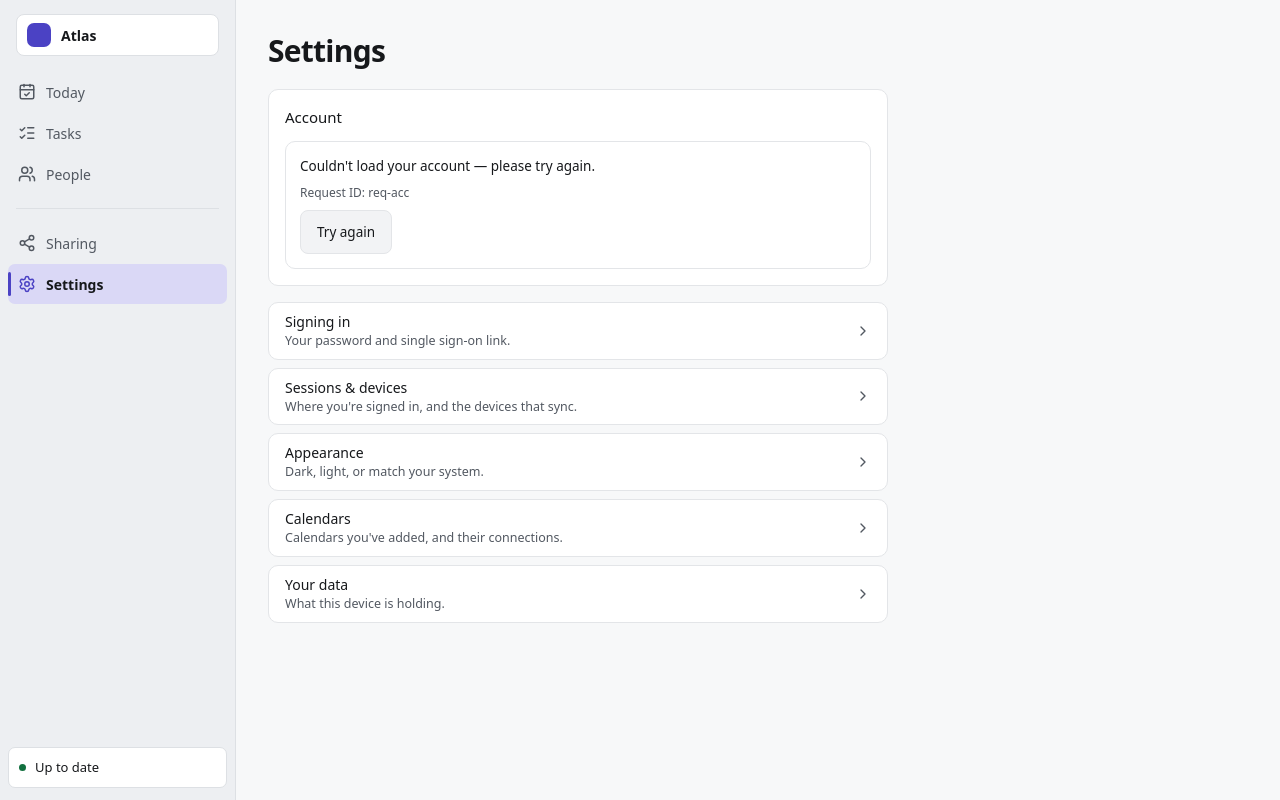
Test: the account card › a failed read has its own error banner and retry, and the signed-in-since line is simply omitted when only that read fails
Check: the heading "Settings" is shown, box x1=268 y1=30 x2=385 y2=71
Check: the text "Couldn't load your account — please try again." is shown, box x1=300 y1=156 x2=595 y2=176
What coordinates should you click on to do the following:
click the button "Try again"
I would click on:
 (346, 232)
Its box is x1=300 y1=210 x2=392 y2=254.
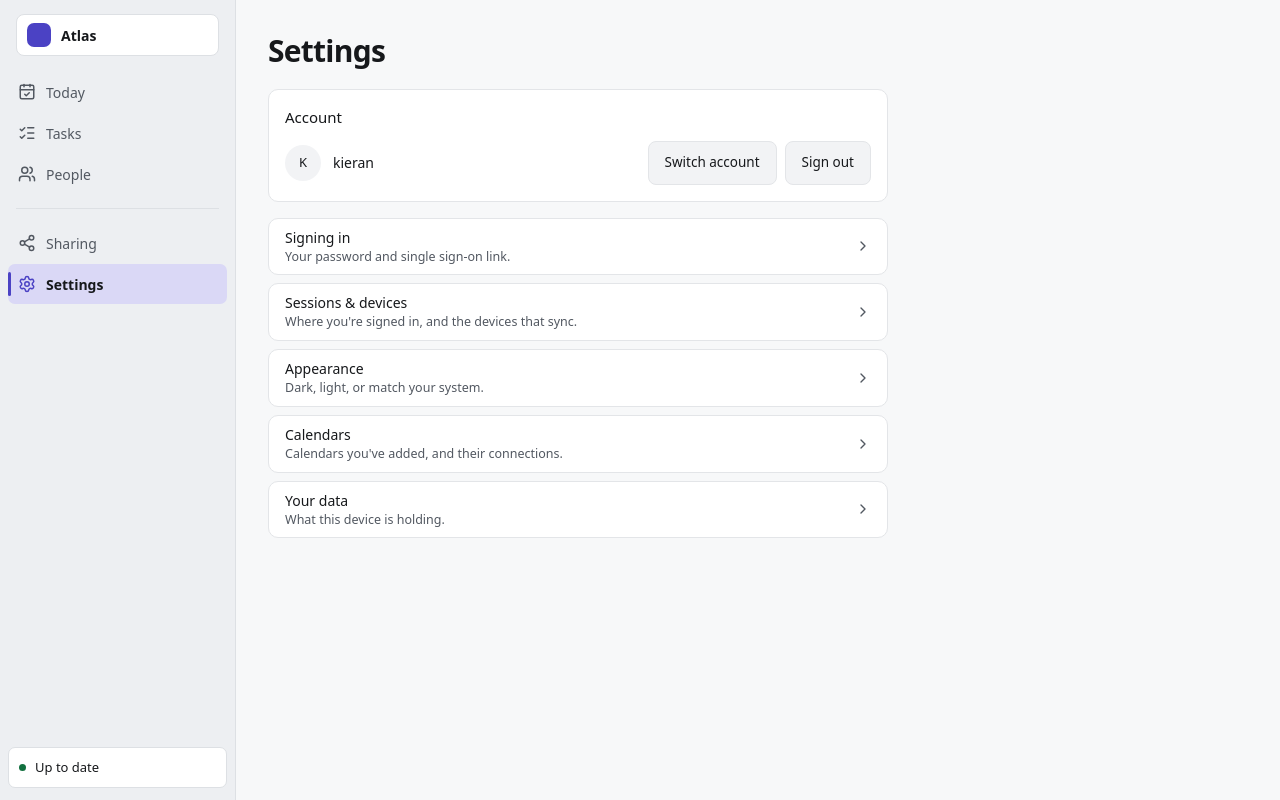
Check: the text "kieran" is shown, box x1=332 y1=152 x2=481 y2=172
